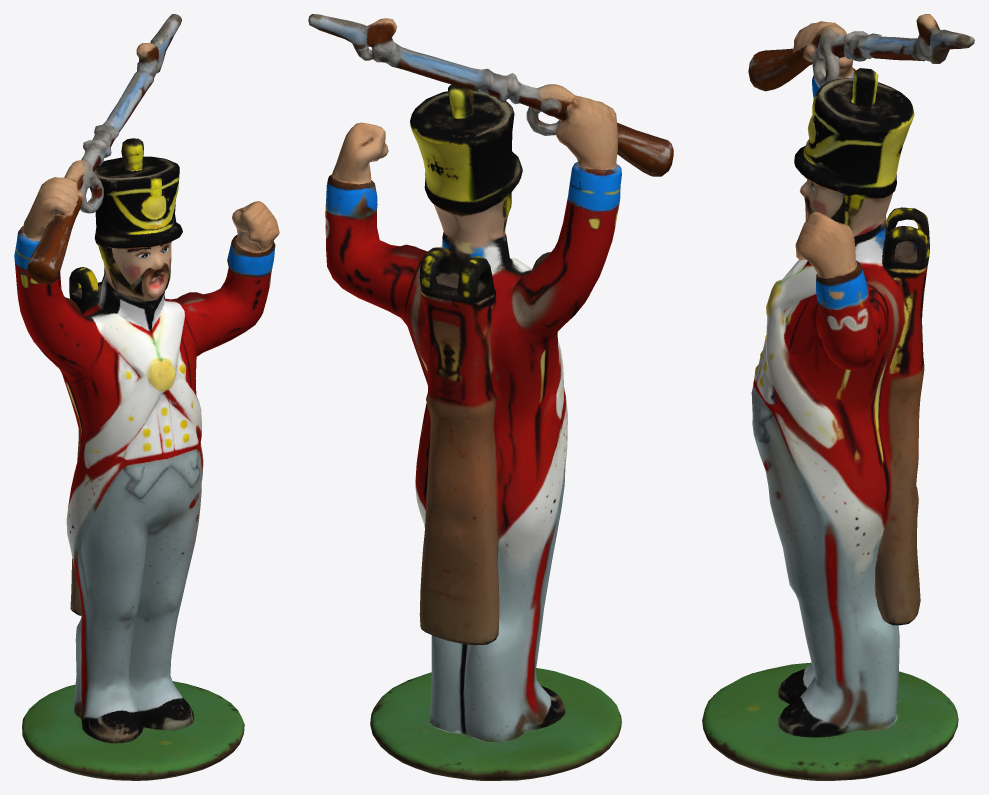
The model's file is inf_cheer.glb.
The picture shows the model from 3 angles, left to right: view 1: azimuth 30°, elevation 25°; view 2: azimuth 150°, elevation 25°; view 3: azimuth 270°, elevation 25°; orthographic projection. The views are drawn at different scales.
Visible parts, largest first — view 1: world; view 2: world; view 3: world.
Boxes of the visible parts, x1,y1,x2,y2 form: world: [14, 14, 279, 780]; world: [308, 14, 673, 780]; world: [702, 14, 974, 780].
Bounding box in the file's own units: 0.4368 × 1 × 0.3285.
1 material, 1 textured.
